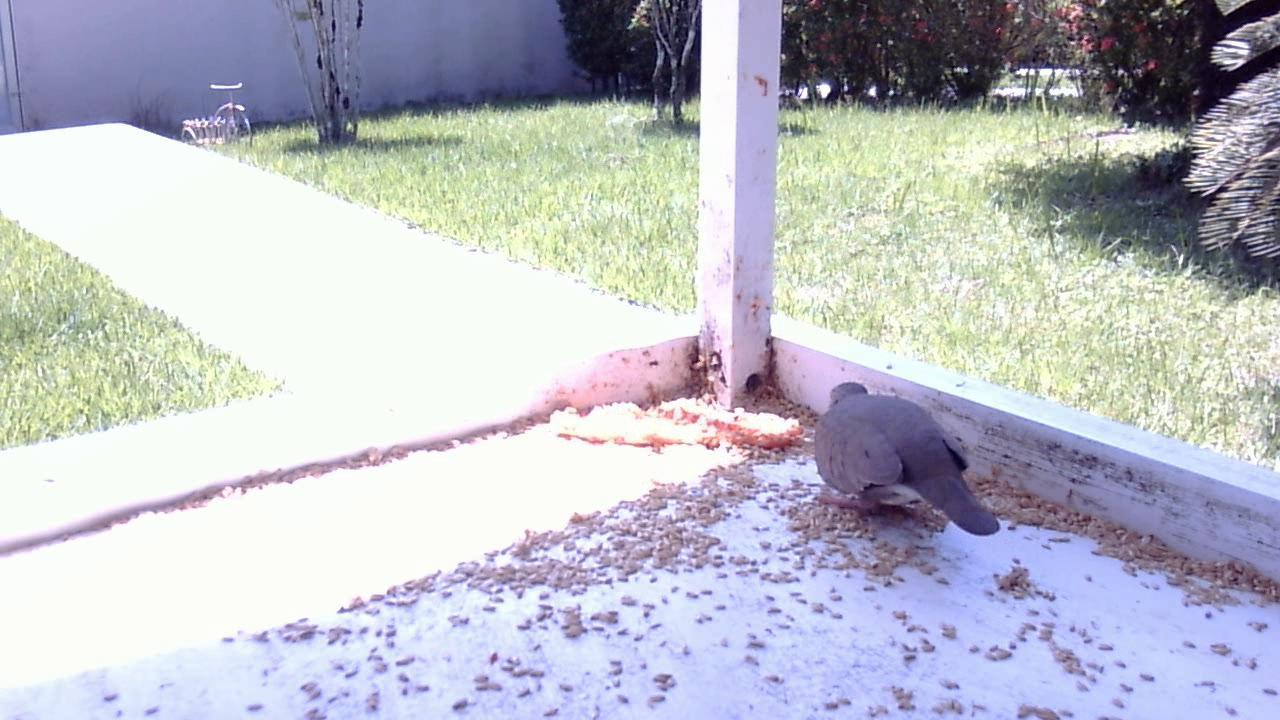rolinha: (799, 374, 1005, 543)
